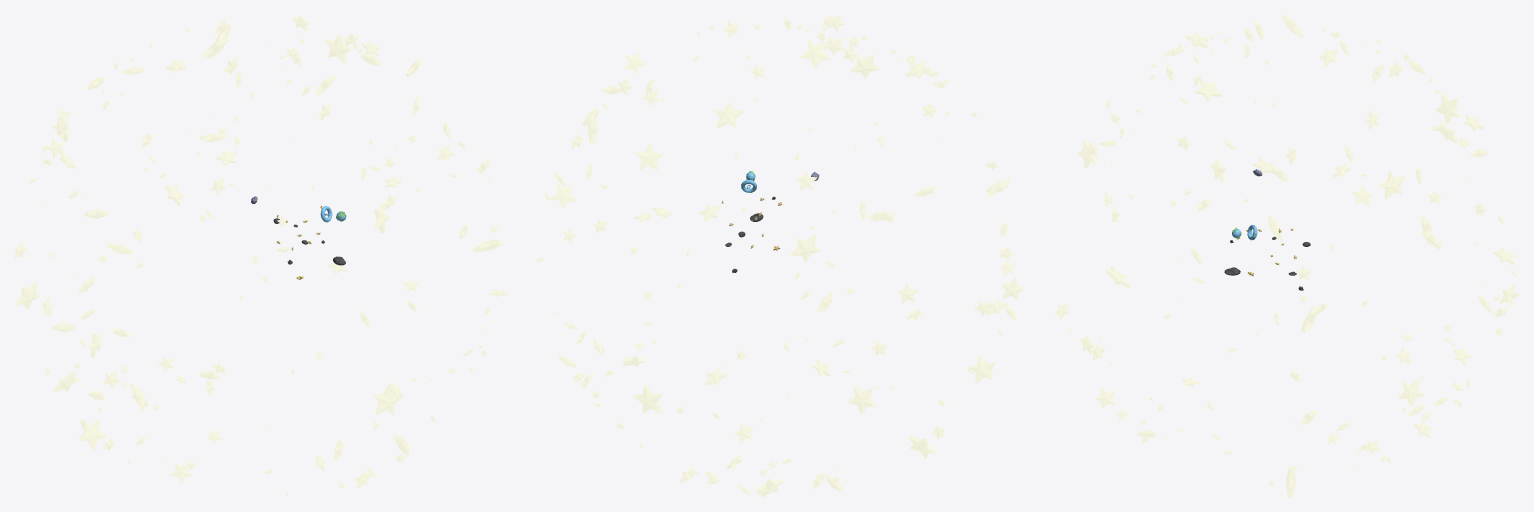
3 renders of one model, left to right at view 1: azimuth 30°, elevation 25°; view 2: azimuth 150°, elevation 25°; view 3: azimuth 270°, elevation 25°, orthographic. The views are drawn at different scales.
Size of the model in its own units: 84.17 by 84.03 by 82.54.
